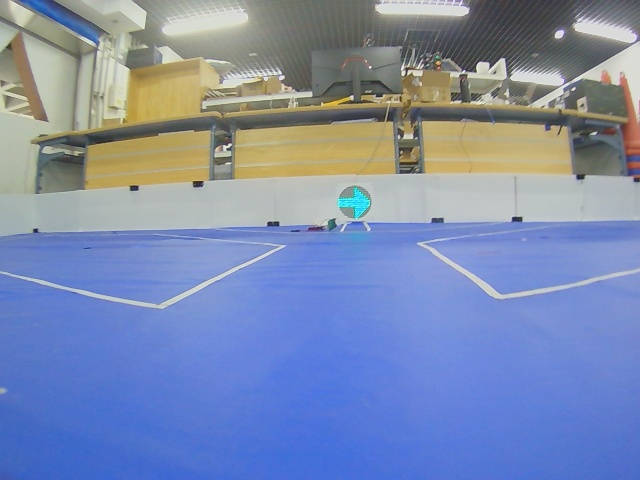right_green: (337, 186, 371, 219)
